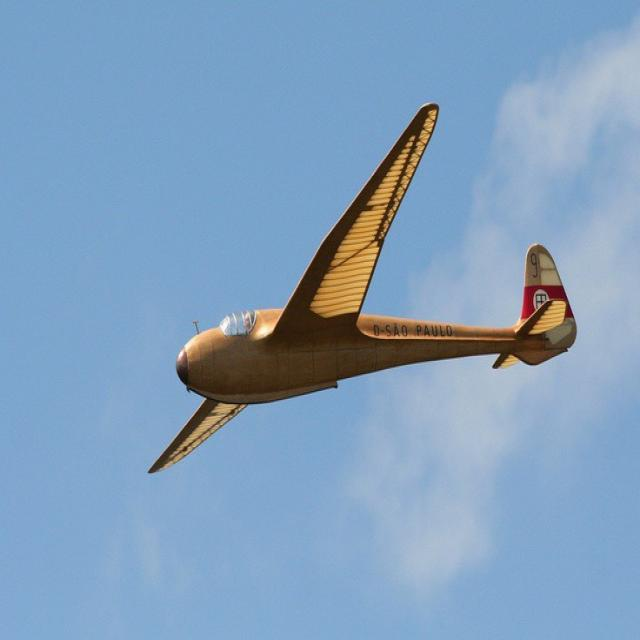iha: (146, 102, 583, 479)
